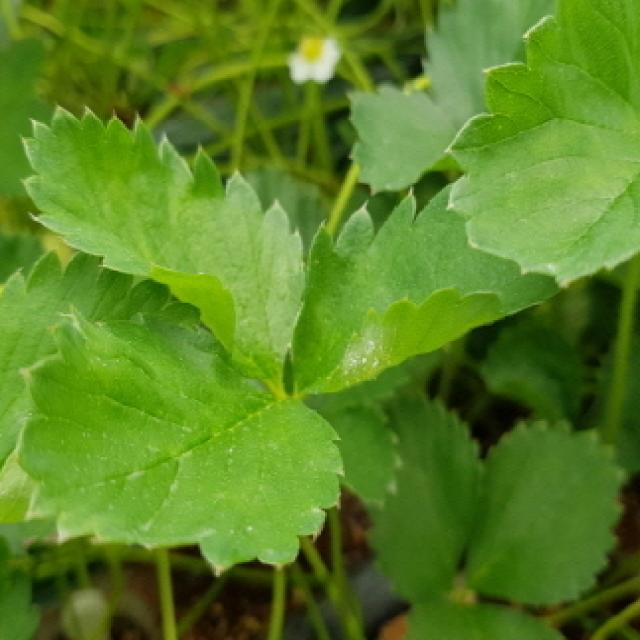Powdery Mildew Leaf: (288, 181, 566, 401)
